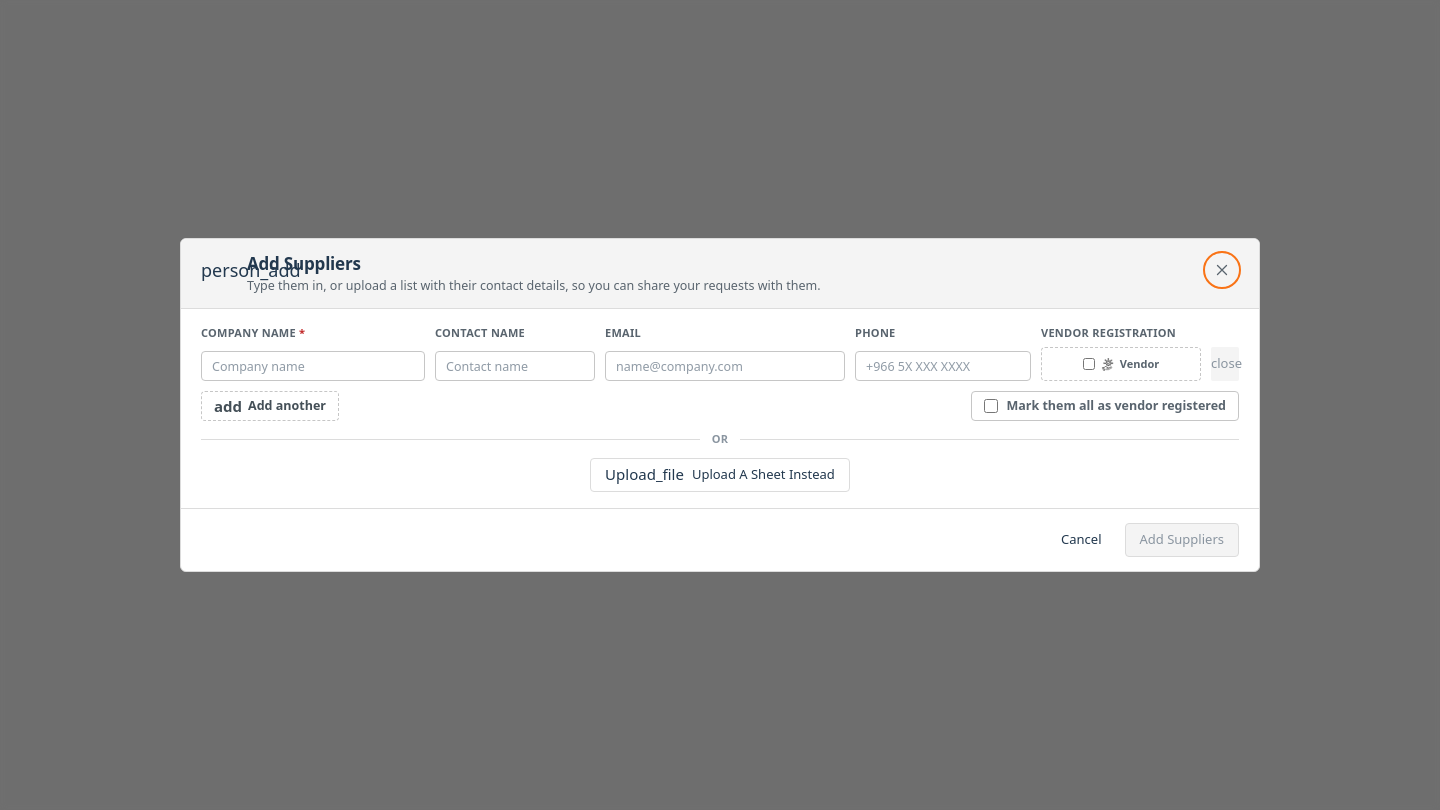
a row short of the rule says so, instead of vanishing › names the missing company when only a phone is typed
In the field with placeholder "+966 5X XXX XXXX": x=943, y=366 [855,351,1031,381], type "0503372850"
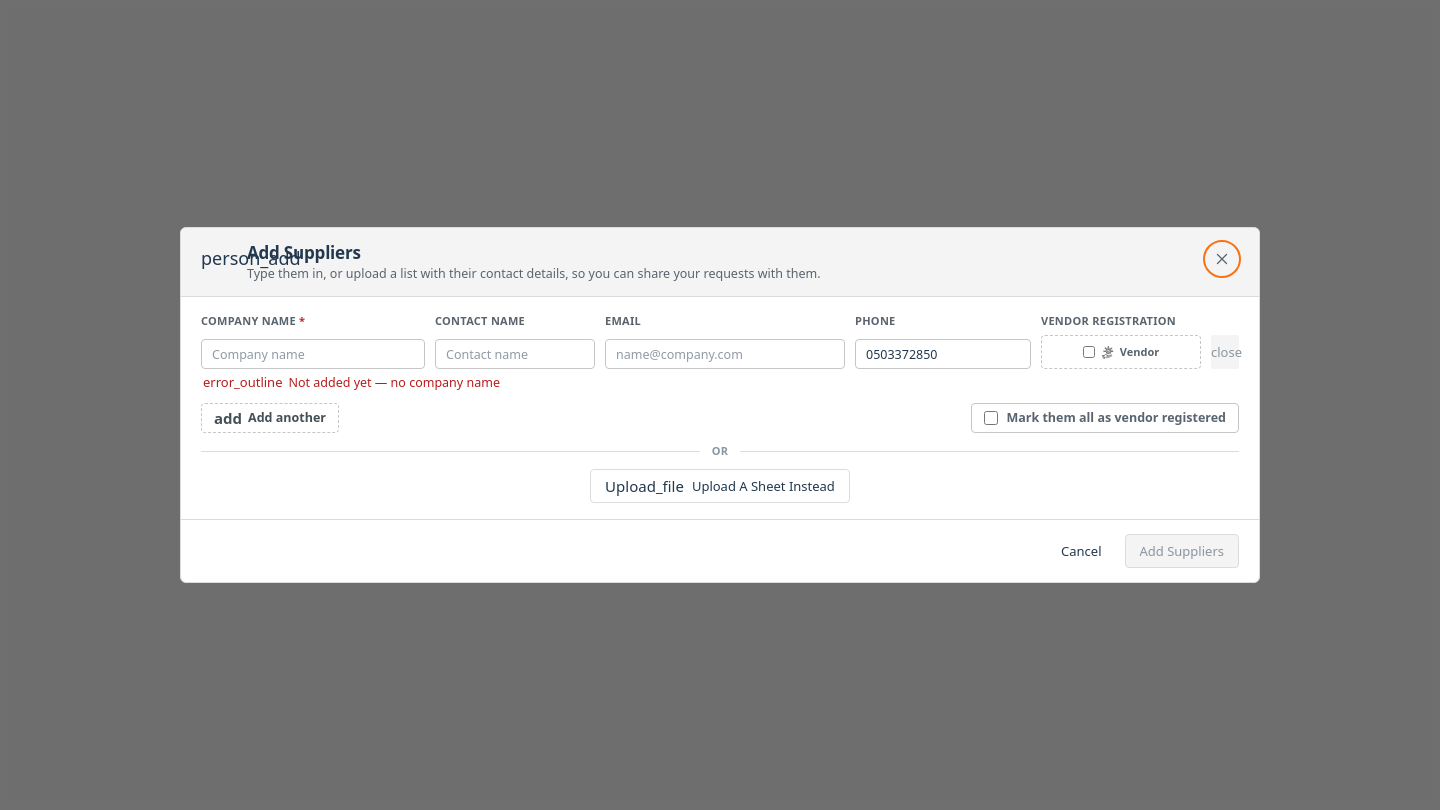
Now the text "error_outline Not added yet — no company name" is shown, box [203,374,500,392]
